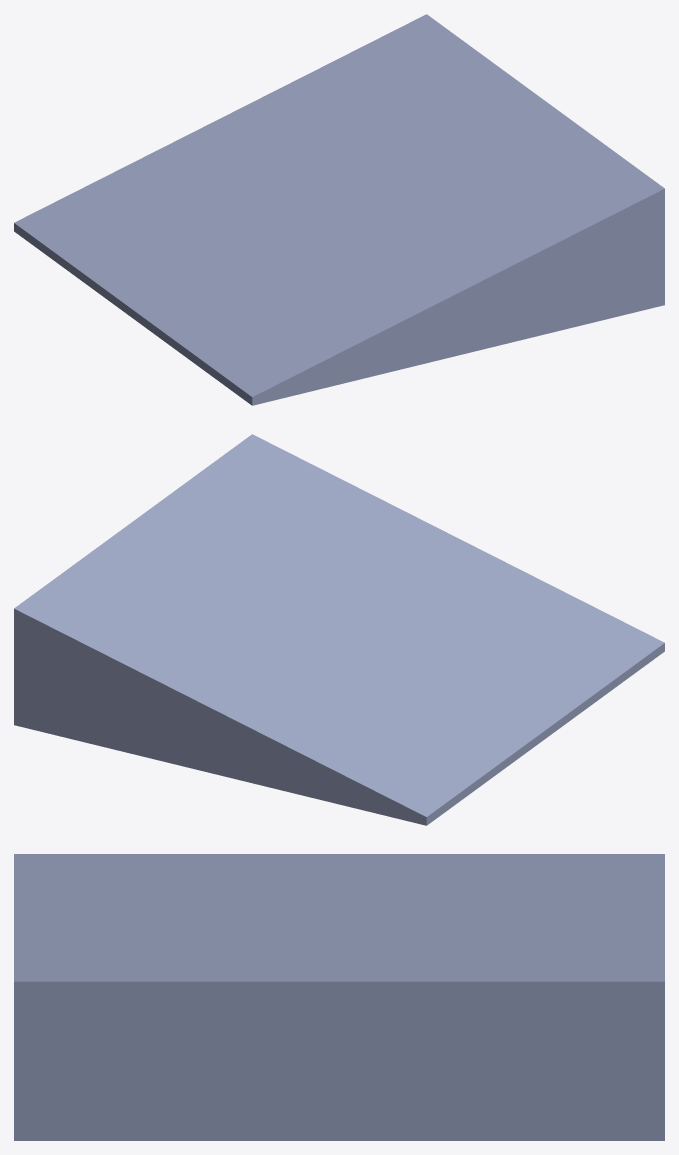
Rendered from tile-slant.glb.
The picture shows the model from 3 angles, top to bottom: view 1: azimuth 30°, elevation 25°; view 2: azimuth 150°, elevation 25°; view 3: azimuth 270°, elevation 25°; orthographic projection. The views are drawn at different scales.
Parts seen in each view (by area): view 1: tile-slant; view 2: tile-slant; view 3: tile-slant.
Part boxes in pixels (x1=…): tile-slant: x1=14, y1=14, x2=664, y2=405; tile-slant: x1=14, y1=434, x2=664, y2=825; tile-slant: x1=14, y1=854, x2=664, y2=1140.
Bounding box in the file's own units: 1 × 0.27 × 1.
1 material, 1 textured.
